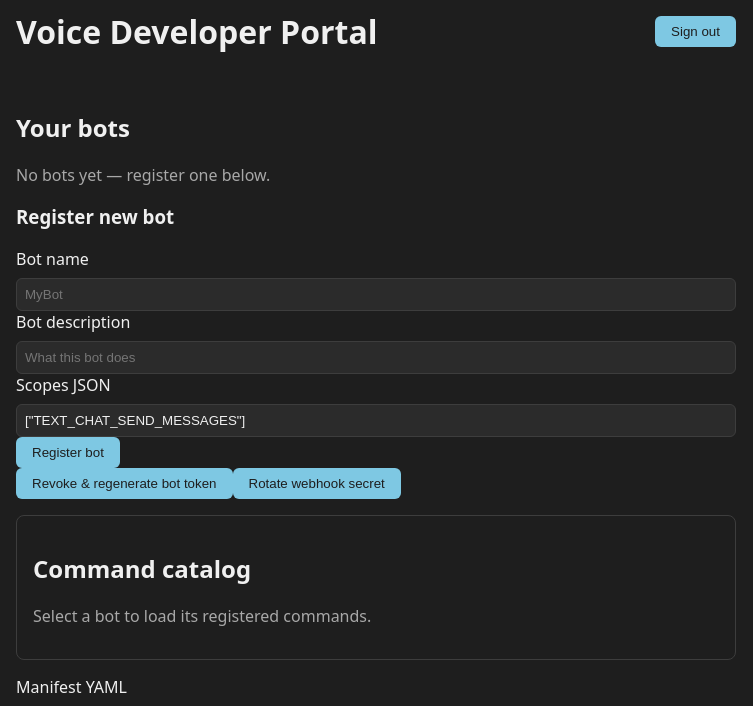
Test case: App bot registration and selection › shows privileged scope warnings in registration and edit forms
This screenshot has width=753, height=706.
Expected: the element with test id "bot-register" is shown, [16,204,736,468]
Type "[\"TEXT_CHAT_READ_HISTORY\",\"SPACE_MANAGE_ROLES\"]" into the field with placeholder "[".
click(376, 421); type("[\"TEXT_CHAT_READ_HISTORY\",\"SPACE_MANAGE_ROLES\"]")  # box [16,404,736,437]
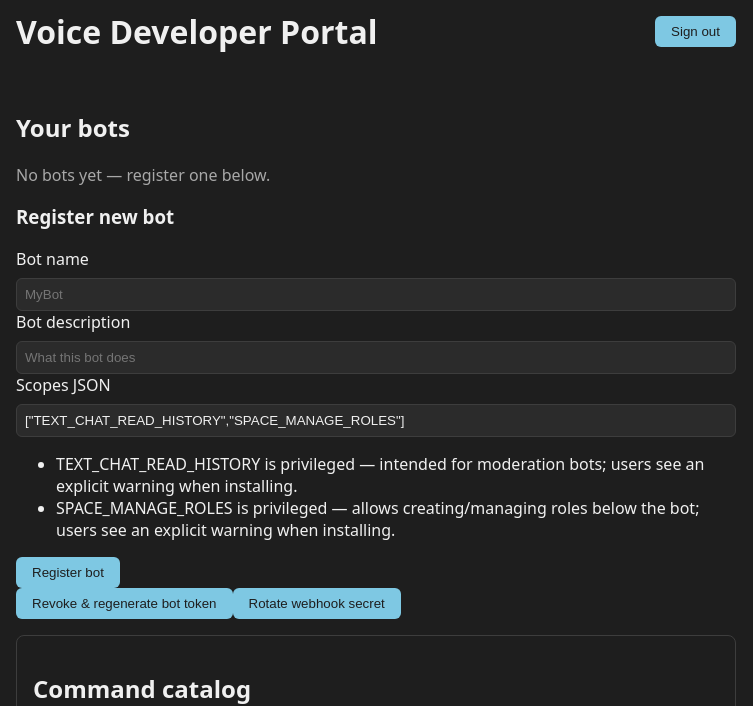
Expected: the list with test id "reg-scope-warnings" is shown, [16,453,736,541]
Expected: the list item "TEXT_CHAT_READ_HISTORY is privileged" is shown, [56,453,704,497]
Expected: the list item "SPACE_MANAGE_ROLES is privileged" is shown, [56,497,699,541]
